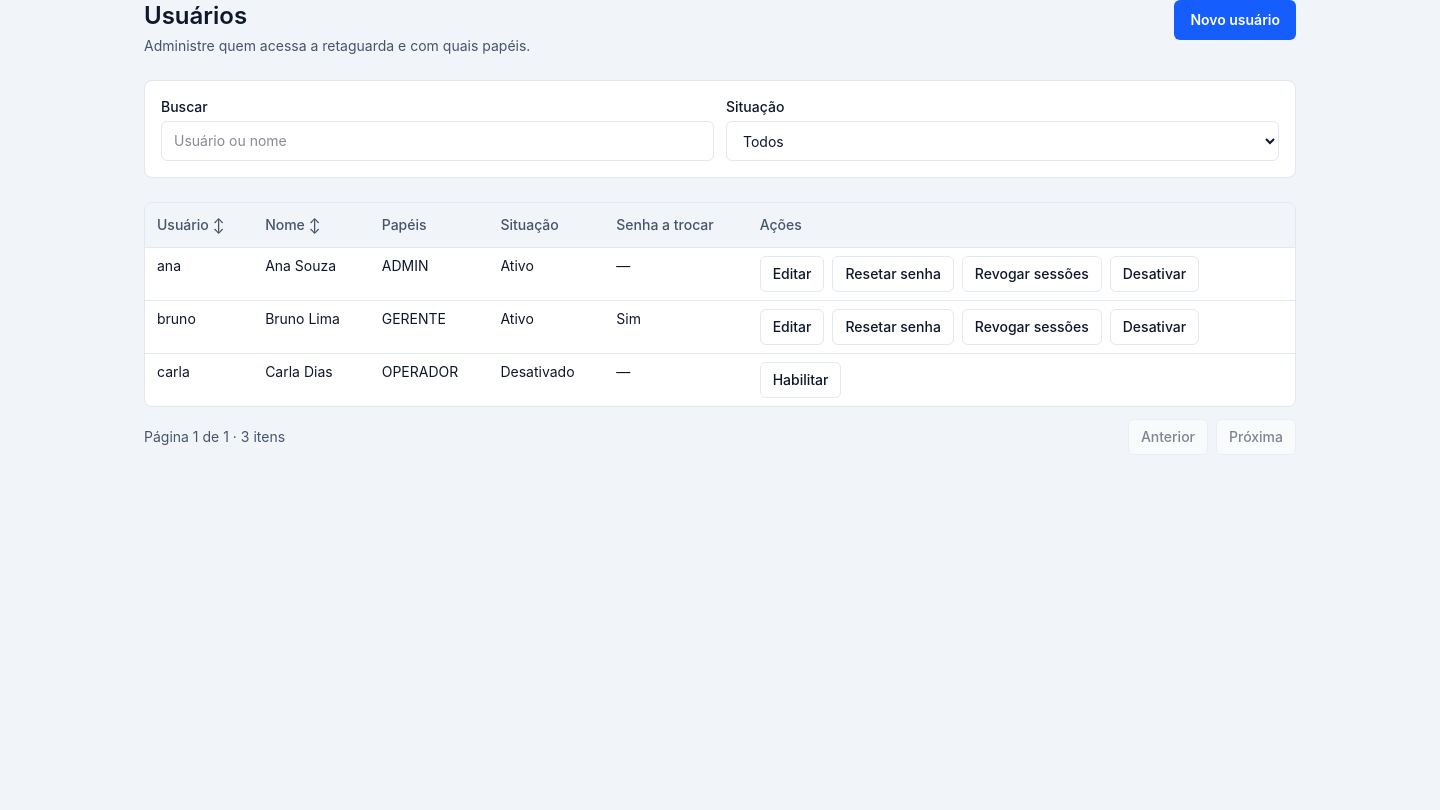
it: UsersPage — edição › semeia o formulário e manda o PUT sem username
The image size is (1440, 810).
Expected: the cell "ana" is shown, [145,248,253,300]
Click the button with aria-label "Editar ana".
click(792, 274)  # box [760,256,824,292]
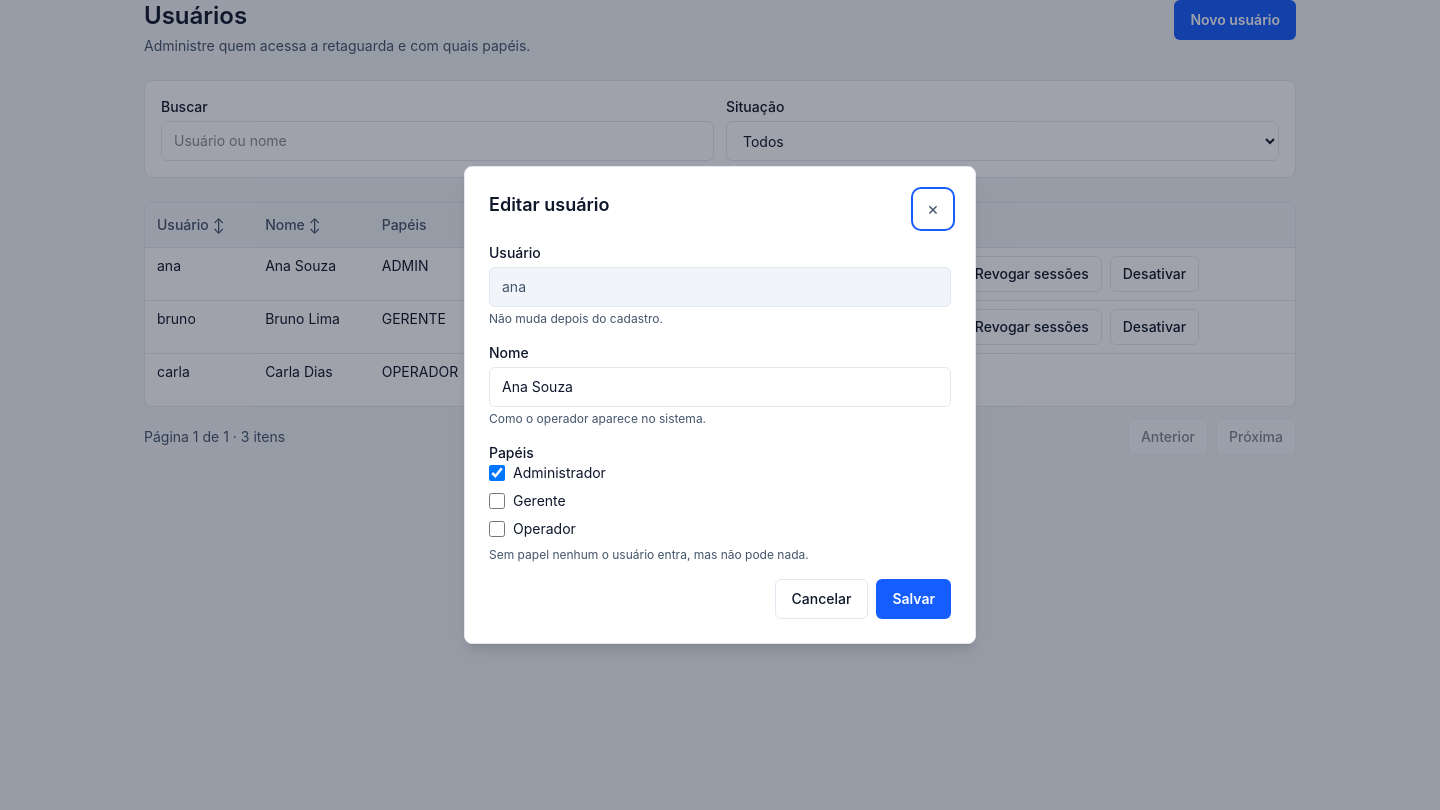
Now the field labelled "Usuário" holds "ana", box [489,267,951,307]
Now the field labelled "Nome" holds "Ana Souza"
Now the checkbox labelled "Administrador" is checked, box [489,465,505,481]
Replace the text in the field labelled "Nome" with "Ana Souza Lima" at (720, 387), box [489,367,951,407]
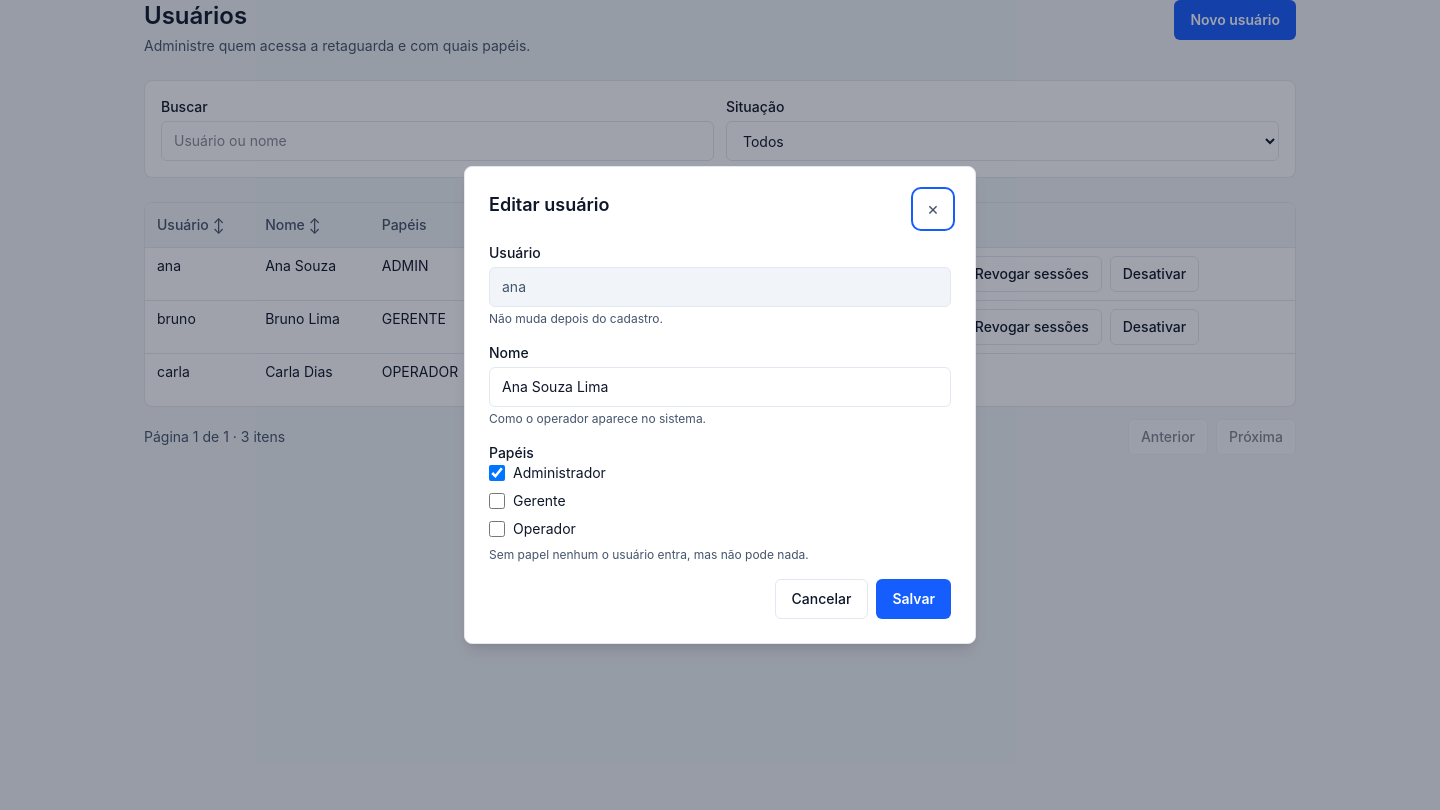
Click the button "Salvar".
click(914, 599)  # box [876,579,951,619]
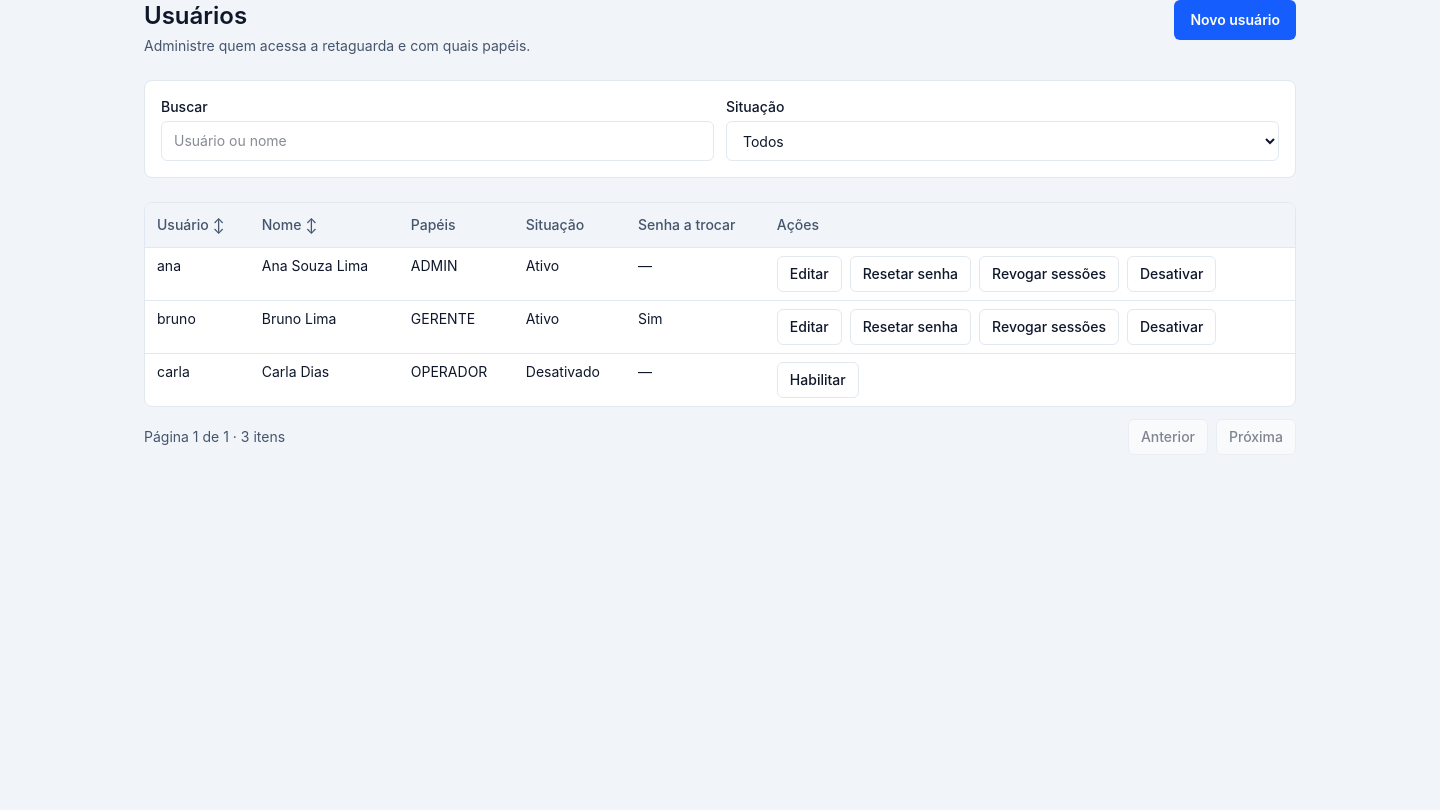
Now the dialog is gone
Now the cell "Ana Souza Lima" is shown, box [250,248,399,300]
